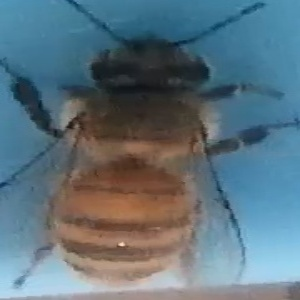bee: (5, 9, 292, 296)
